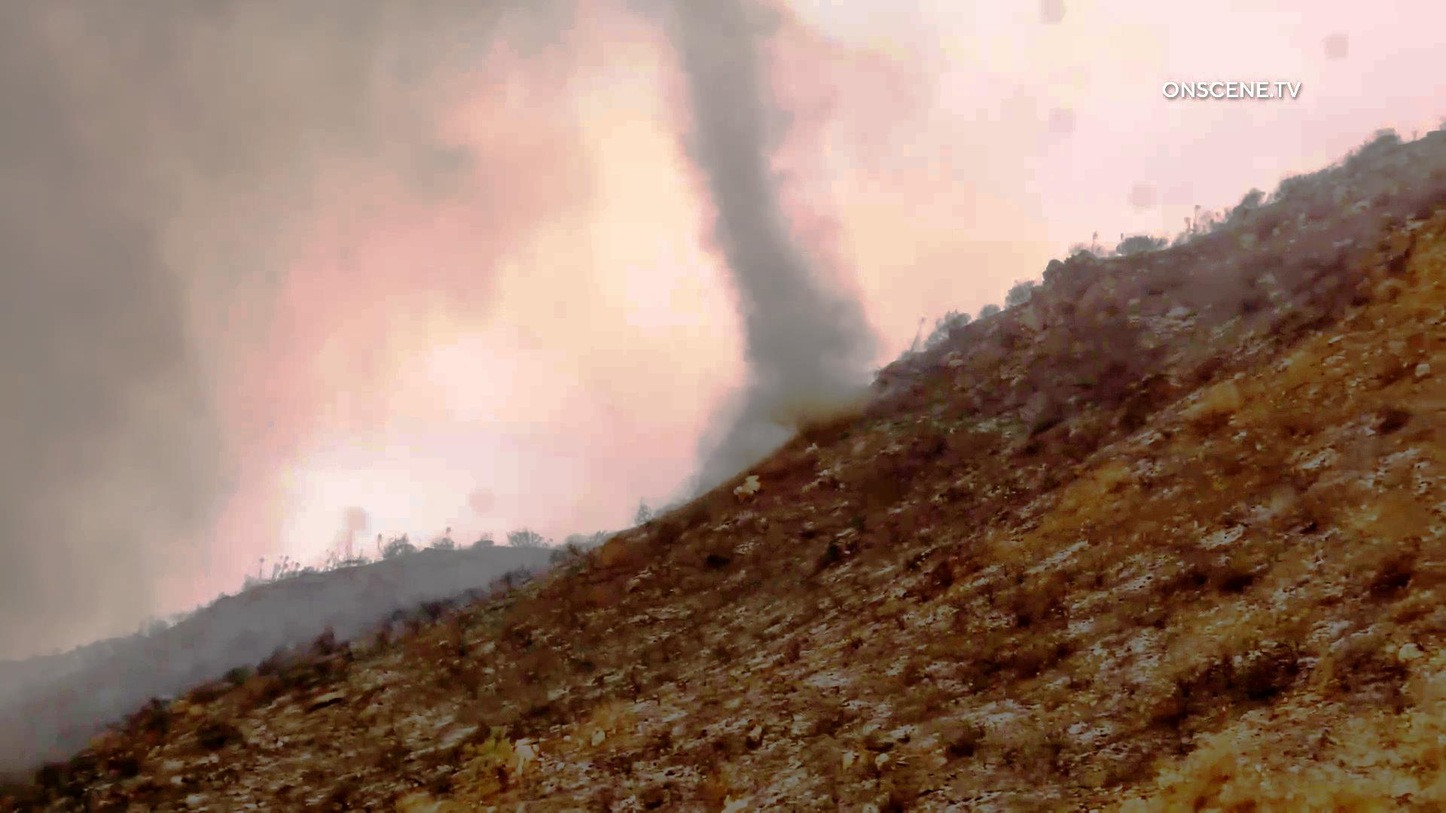smoke: (0, 79, 334, 514)
